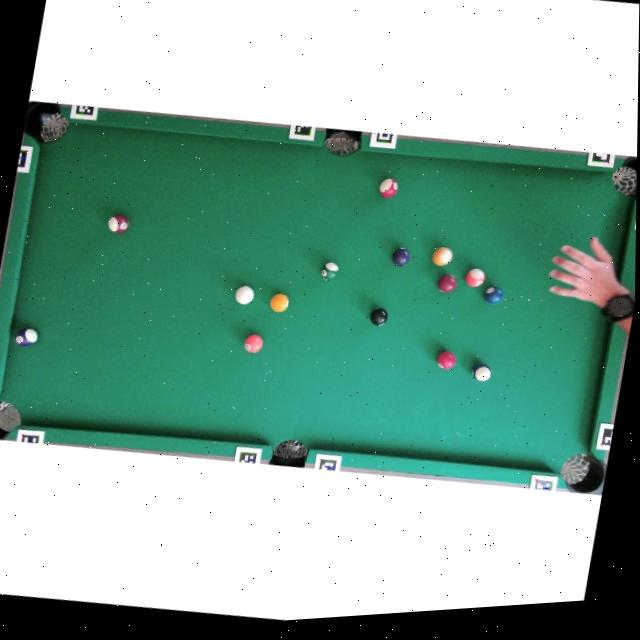cue ball: (234, 284, 256, 307)
other: (13, 325, 40, 350), (463, 266, 488, 290), (106, 213, 130, 237), (242, 332, 265, 356), (470, 361, 493, 385), (436, 272, 459, 296), (435, 349, 458, 372), (431, 245, 454, 268), (482, 284, 505, 307), (269, 291, 291, 314), (319, 260, 341, 283), (378, 177, 399, 200), (390, 246, 411, 268), (369, 306, 390, 328)
